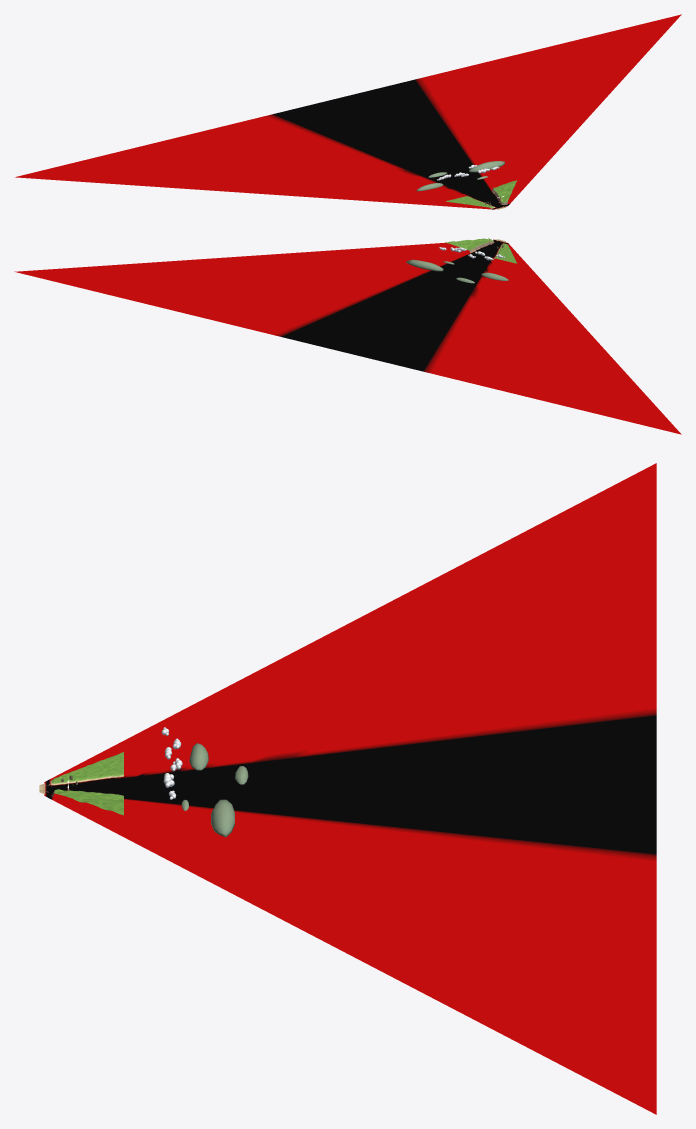
Rendered from backdrop_0.glb.
3 views of the same model, one above another, from view 1: azimuth 30°, elevation 25°; view 2: azimuth 150°, elevation 25°; view 3: azimuth 270°, elevation 25° (orthographic). The views are drawn at different scales.
Parts seen in each view (by area): view 1: mid_sea, mid_land, far_islands; view 2: mid_sea, mid_land, far_islands; view 3: mid_sea, mid_land, far_islands.
Part boxes in pixels (box(x1,y1,x2,y2)): mid_sea: box(15, 14, 681, 209); mid_land: box(445, 180, 517, 208); far_islands: box(416, 161, 505, 191); mid_sea: box(14, 239, 681, 434); mid_land: box(445, 238, 517, 263); far_islands: box(406, 259, 508, 283); mid_sea: box(44, 463, 656, 1114); mid_land: box(44, 752, 123, 815); far_islands: box(181, 743, 248, 837).
Bounding box in the file's own units: 3273 × 80.85 × 1310.
